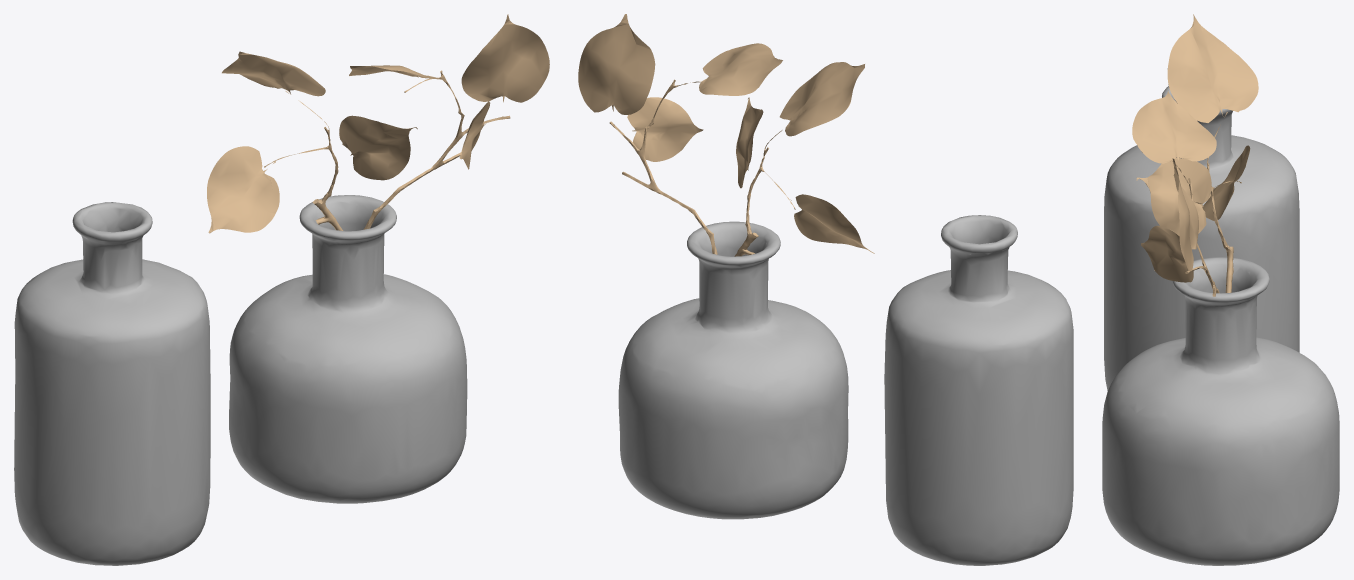
The model's file is glb.glb.
The picture shows the model from 3 angles, left to right: view 1: azimuth 30°, elevation 25°; view 2: azimuth 150°, elevation 25°; view 3: azimuth 270°, elevation 25°; orthographic projection. The views are drawn at different scales.
Visible parts, largest first — view 1: SK_Glass_1, SK_Glass_2, SK_Solid_2; view 2: SK_Glass_1, SK_Glass_2, SK_Solid_2; view 3: SK_Glass_2, SK_Glass_1, SK_Solid_2.
Part boxes in pixels (left/top/right/bottom): SK_Glass_1: left=14, top=202, right=210, bottom=565; SK_Glass_2: left=229, top=195, right=467, bottom=503; SK_Solid_2: left=207, top=14, right=549, bottom=233; SK_Glass_1: left=884, top=215, right=1073, bottom=565; SK_Glass_2: left=618, top=221, right=848, bottom=519; SK_Solid_2: left=578, top=14, right=874, bottom=256; SK_Glass_2: left=1102, top=257, right=1339, bottom=565; SK_Glass_1: left=1104, top=86, right=1299, bottom=390; SK_Solid_2: left=1132, top=14, right=1258, bottom=296.
Size of the model in its own units: 0.3861 by 0.3297 by 0.1554.
Materials: 3 (3 with a texture image).
